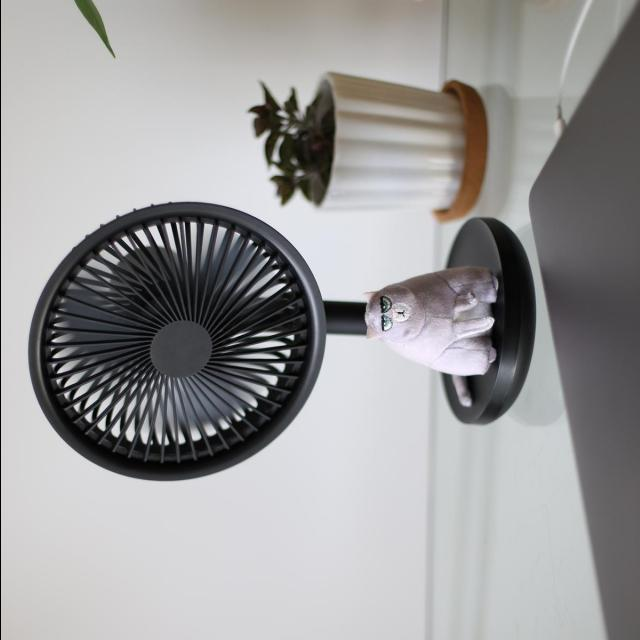fan: (30, 201, 538, 490)
